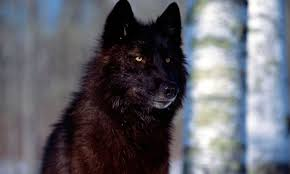Lobo: (49, 1, 197, 174)
